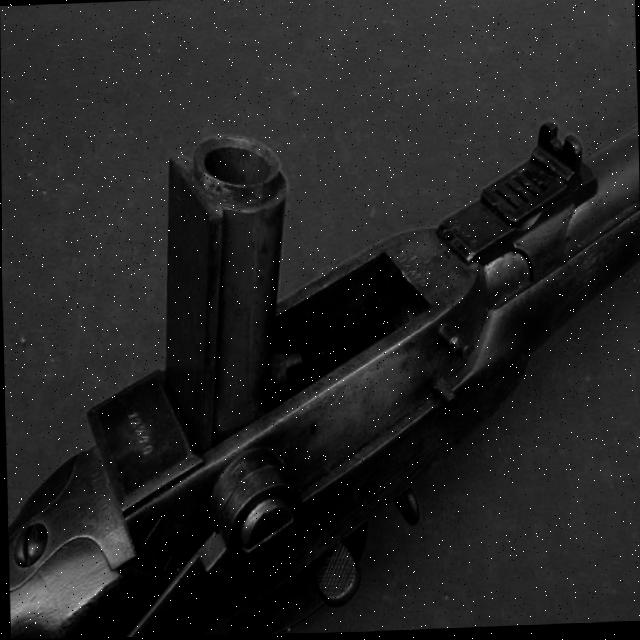firearm: (1, 115, 640, 640)
